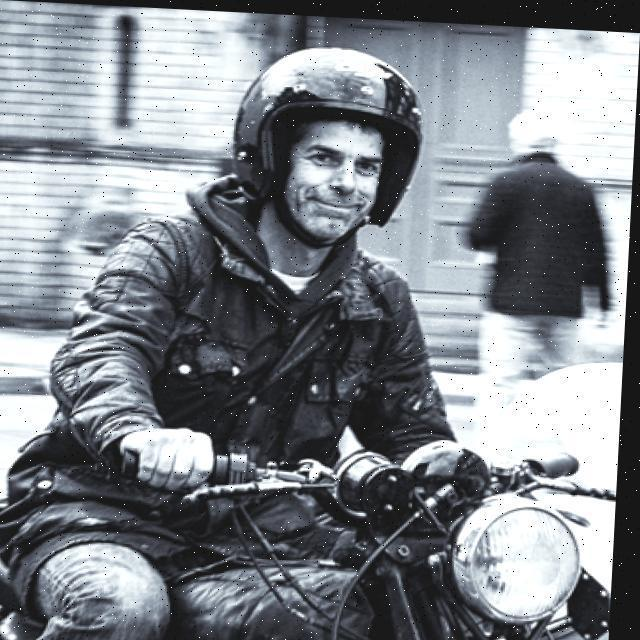Helmet: (236, 27, 438, 235)
